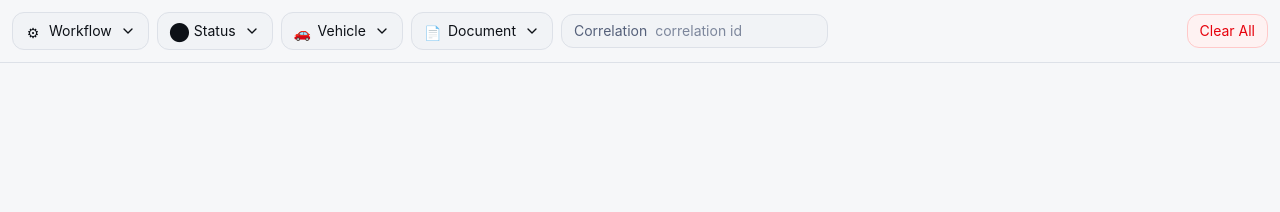
it: Workflow Monitor filter dropdowns › applies a selection and closes the menu
The image size is (1280, 212).
Click the button with aria-label "filter by workflow" at (80, 31), box left=12, top=12, right=149, bottom=50
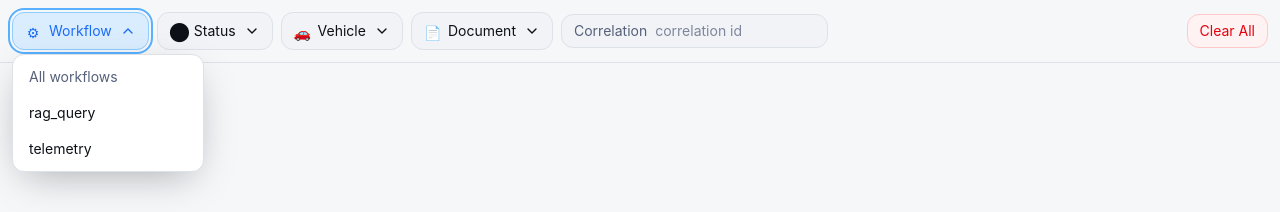
Click the button "rag_query" at (108, 113), box left=17, top=95, right=199, bottom=131
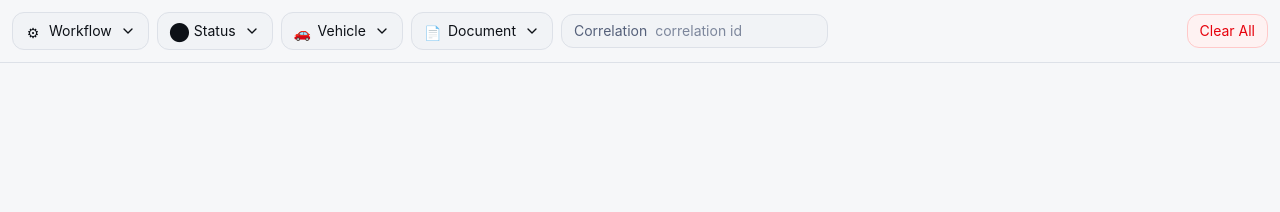
Expected: the button "rag_query" is gone
